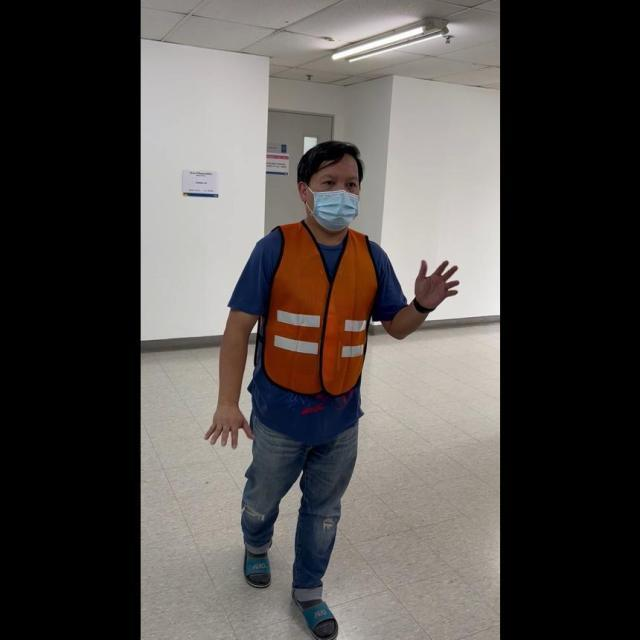bare_hand: (412, 252, 460, 308), (202, 398, 251, 448)
